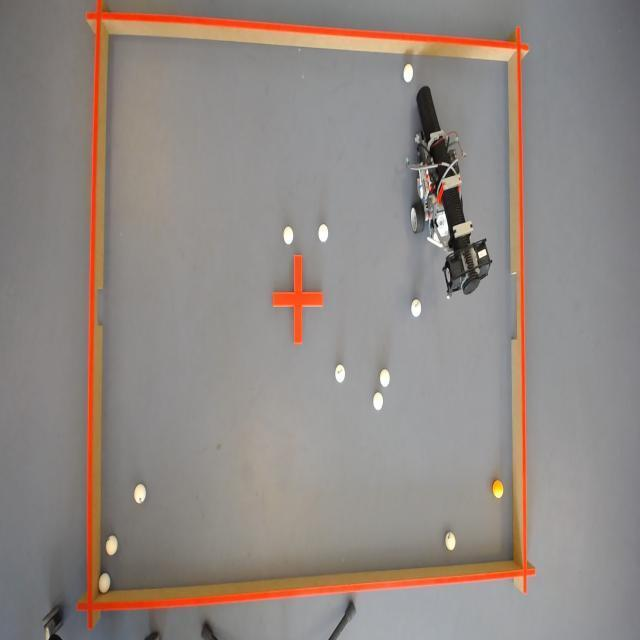orange: (493, 479, 506, 499)
robot: (408, 82, 487, 278)
white: (281, 224, 294, 246), (133, 483, 146, 505), (378, 368, 392, 388), (98, 571, 109, 595), (107, 534, 119, 556), (315, 222, 328, 242), (410, 298, 422, 318), (444, 533, 456, 552), (334, 364, 346, 383), (403, 62, 414, 81), (372, 392, 382, 412)
